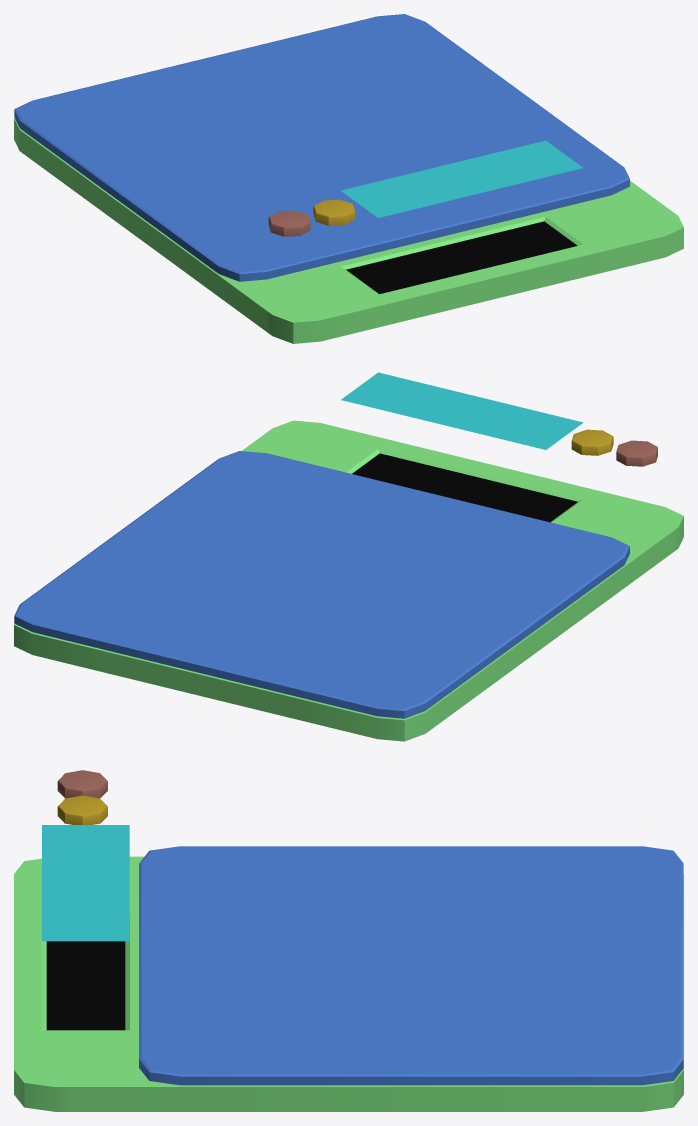
Rendered from Scale.fbx.
3 views of the same model, one above another, from view 1: azimuth 30°, elevation 25°; view 2: azimuth 150°, elevation 25°; view 3: azimuth 270°, elevation 25° (orthographic). The views are drawn at different scales.
Visible parts, largest first — view 1: Box003, Box001, Plane001, Cylinder002, Cylinder001; view 2: Box003, Box001, Plane001, Cylinder002, Cylinder001; view 3: Box003, Box001, Plane001, Cylinder002, Cylinder001.
Boxes of the visible parts, x1=… form: Box003: x1=14, y1=14, x2=629, y2=281; Box001: x1=14, y1=118, x2=683, y2=343; Plane001: x1=341, y1=140, x2=582, y2=217; Cylinder002: x1=313, y1=199, x2=355, y2=225; Cylinder001: x1=268, y1=210, x2=310, y2=236; Box003: x1=14, y1=451, x2=629, y2=718; Box001: x1=14, y1=420, x2=683, y2=741; Plane001: x1=341, y1=372, x2=583, y2=449; Cylinder002: x1=571, y1=429, x2=613, y2=455; Cylinder001: x1=616, y1=440, x2=657, y2=466; Box003: x1=139, y1=846, x2=683, y2=1085; Box001: x1=14, y1=856, x2=683, y2=1111; Plane001: x1=42, y1=825, x2=129, y2=941; Cylinder002: x1=57, y1=795, x2=107, y2=824; Cylinder001: x1=57, y1=770, x2=107, y2=798.
Bounding box in the file's own units: 2000 × 478 × 2458.
